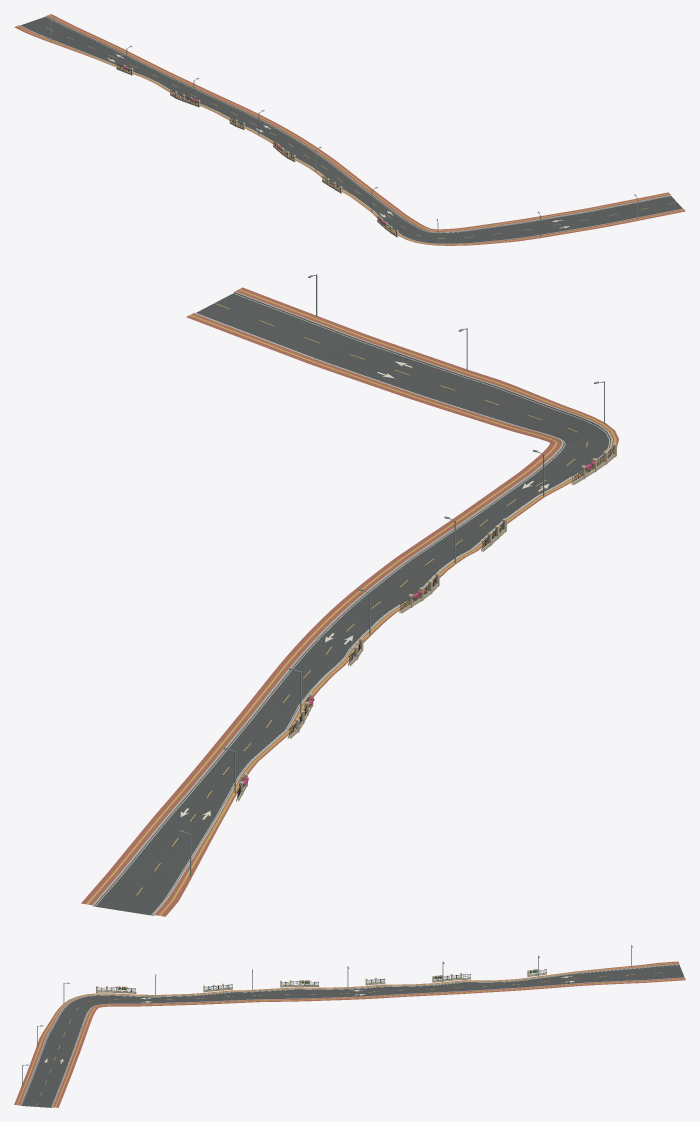
The model's file is infra-road-05.glb.
3 renders of one model, top to bottom at view 1: azimuth 30°, elevation 25°; view 2: azimuth 150°, elevation 25°; view 3: azimuth 270°, elevation 25°, orthographic. The views are drawn at different scales.
Visible parts, largest first — view 1: infra-road-05; view 2: infra-road-05; view 3: infra-road-05.
Boxes of the visible parts, x1,y1,x2,y2 form: infra-road-05: (14,14,685,245); infra-road-05: (81,274,618,916); infra-road-05: (14,945,685,1107).
Bounding box in the file's own units: 107 × 10.28 × 208.
Materials: 12 (1 with a texture image).
